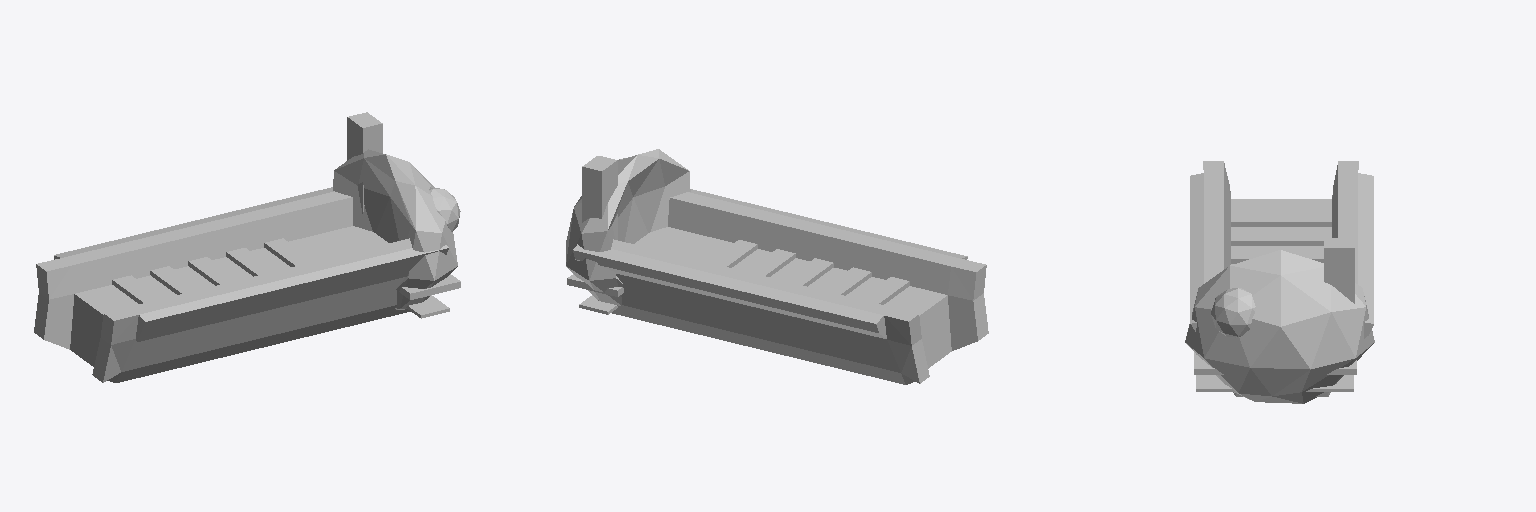
File: barge.obj
3 views of the same model, side by side, from view 1: azimuth 30°, elevation 25°; view 2: azimuth 150°, elevation 25°; view 3: azimuth 270°, elevation 25° (orthographic).
Visible parts, largest first — view 1: Cube.001_Cube.002; view 2: Cube.001_Cube.002; view 3: Cube.001_Cube.002.
Part boxes in pixels (bbox=[...]): Cube.001_Cube.002: bbox=[34, 112, 460, 382]; Cube.001_Cube.002: bbox=[566, 149, 988, 384]; Cube.001_Cube.002: bbox=[1185, 161, 1374, 403].
Size of the model in its own units: 1.76 by 0.7212 by 0.7722.